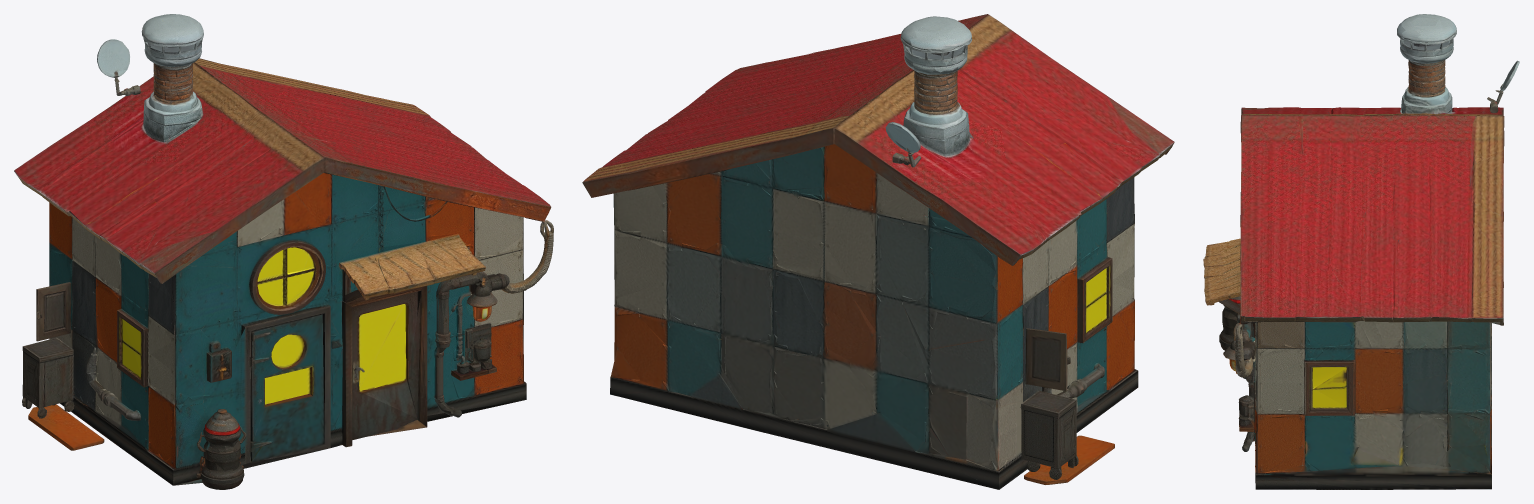
File: shack.glb
3 views of the same model, side by side, from view 1: azimuth 30°, elevation 25°; view 2: azimuth 150°, elevation 25°; view 3: azimuth 270°, elevation 25° (orthographic). The views are drawn at different scales.
Visible parts, largest first — view 1: Mesh_0; view 2: Mesh_0; view 3: Mesh_0.
Part boxes in pixels (bbox=[...]): Mesh_0: bbox=[14, 14, 553, 489]; Mesh_0: bbox=[582, 14, 1174, 489]; Mesh_0: bbox=[1203, 14, 1519, 489].
Bounding box in the file's own units: 1.9 × 1.64 × 1.35.
1 material, 1 textured.
